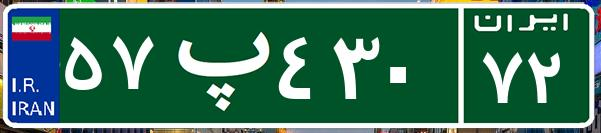0: (385, 28, 445, 110)
2: (525, 38, 570, 115)
3: (330, 28, 385, 110)
4: (273, 28, 330, 110)
5: (57, 26, 110, 107)
7: (475, 38, 525, 113), (110, 28, 158, 105)
پ: (158, 15, 273, 115)
